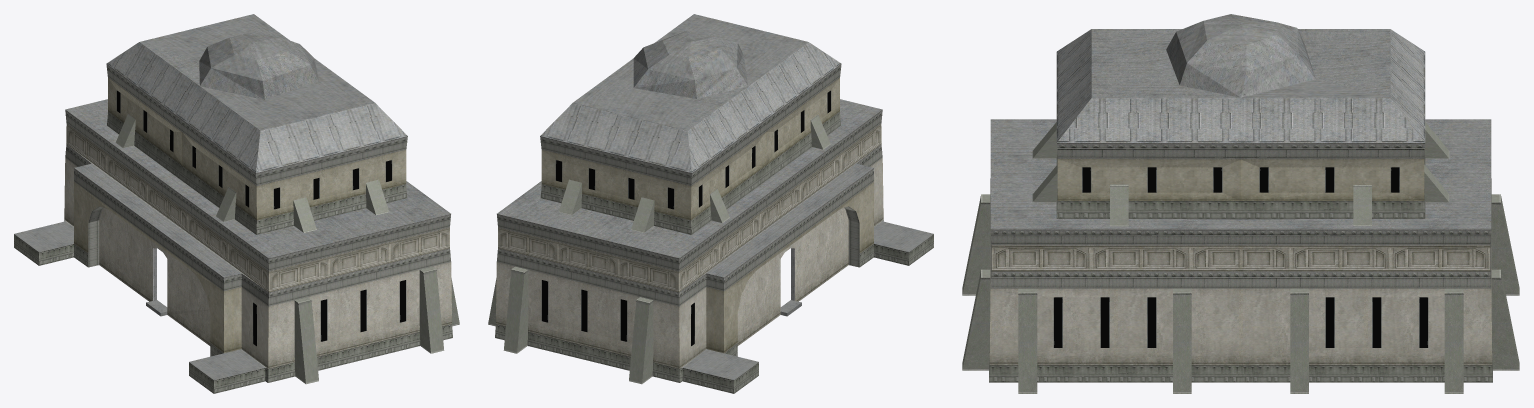
Rendered from thm_corl_imprv_historic_24x16_s01_r0_mesh_l1.fbx.
3 renders of one model, left to right at view 1: azimuth 30°, elevation 25°; view 2: azimuth 150°, elevation 25°; view 3: azimuth 270°, elevation 25°, orthographic. The views are drawn at different scales.
Visible parts, largest first — view 1: mesh_node; view 2: mesh_node; view 3: mesh_node.
Boxes of the visible parts, left/top/right/bottom form: mesh_node: left=14, top=14, right=459, bottom=393; mesh_node: left=488, top=14, right=933, bottom=393; mesh_node: left=962, top=14, right=1519, bottom=393.
Size of the model in its own units: 15.54 by 14.21 by 23.81.
